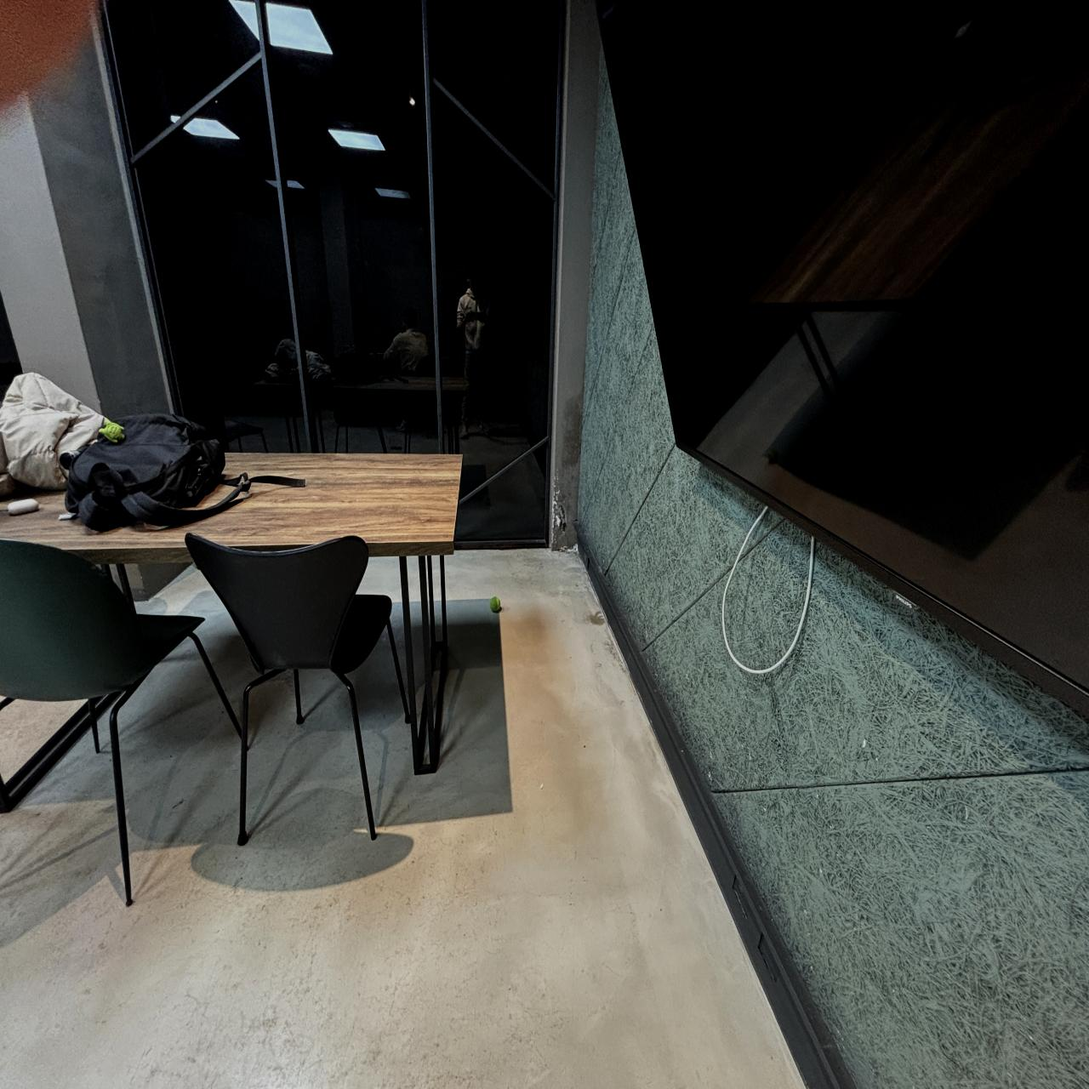tennisball: (490, 596, 501, 613)
